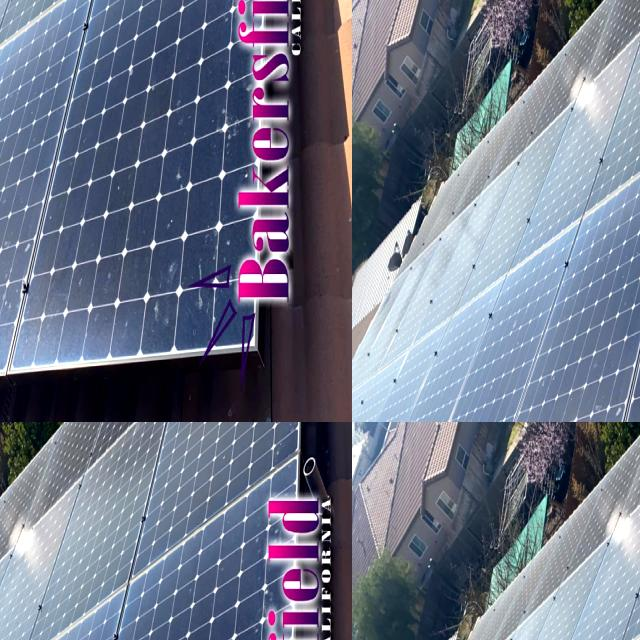bird: (0, 0, 48, 62)
crack: (494, 114, 636, 358), (0, 508, 180, 640), (600, 26, 640, 132)
